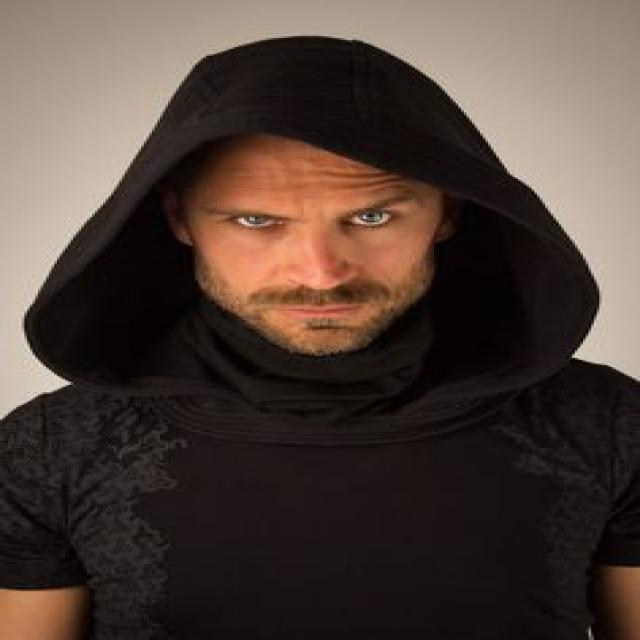4_capucha: (23, 37, 606, 447)
